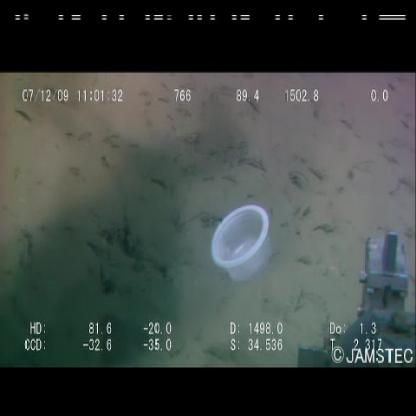Rov: (289, 225, 416, 363)
Rác: (207, 200, 277, 289)
